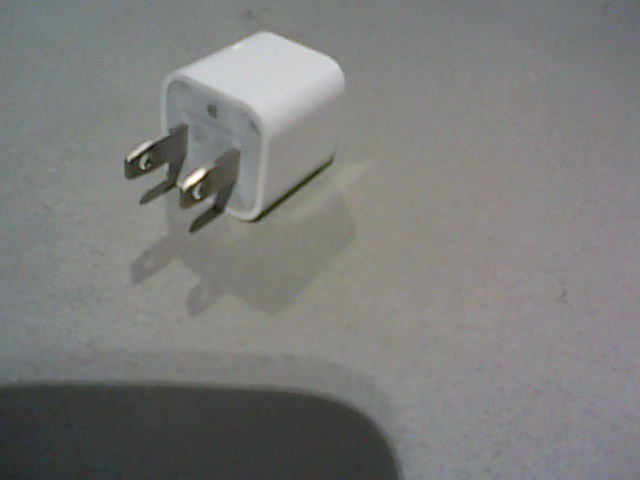charger: (123, 30, 348, 223)
